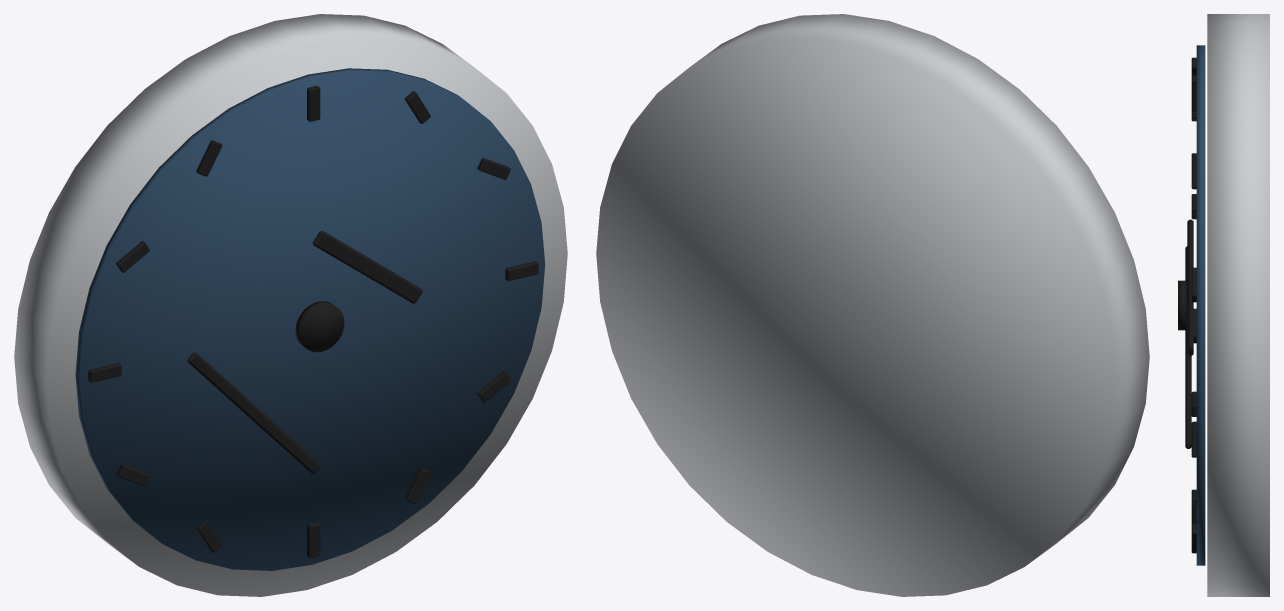
Rendered from i_clock_4.glb.
3 renders of one model, left to right at view 1: azimuth 30°, elevation 25°; view 2: azimuth 150°, elevation 25°; view 3: azimuth 270°, elevation 25°, orthographic. The views are drawn at different scales.
Visible parts, largest first — view 1: o.001, o, o.015, o.014, o.016; view 2: o; view 3: o, o.001, o.015, o.014, o.016, o.002, o.003, o.009, o.004, o.007, o.005, o.011.
Boxes of the visible parts, box(x1,y1,x2,y2) form: o.001: box(75, 68, 545, 570); o: box(14, 14, 567, 596); o.015: box(187, 352, 320, 474); o.014: box(313, 230, 422, 303); o.016: box(295, 301, 344, 352); o: box(596, 14, 1149, 596); o: box(1207, 14, 1269, 596); o.001: box(1196, 45, 1205, 565); o.015: box(1185, 246, 1191, 448); o.014: box(1187, 219, 1193, 355); o.016: box(1178, 280, 1186, 330); o.002: box(1191, 75, 1196, 111); o.003: box(1191, 153, 1196, 189); o.009: box(1191, 421, 1196, 457); o.004: box(1191, 267, 1196, 302); o.007: box(1191, 524, 1196, 553); o.005: box(1191, 391, 1196, 416); o.011: box(1191, 194, 1196, 219).
Size of the model in its own units: 0.28 by 0.28 by 0.044.
